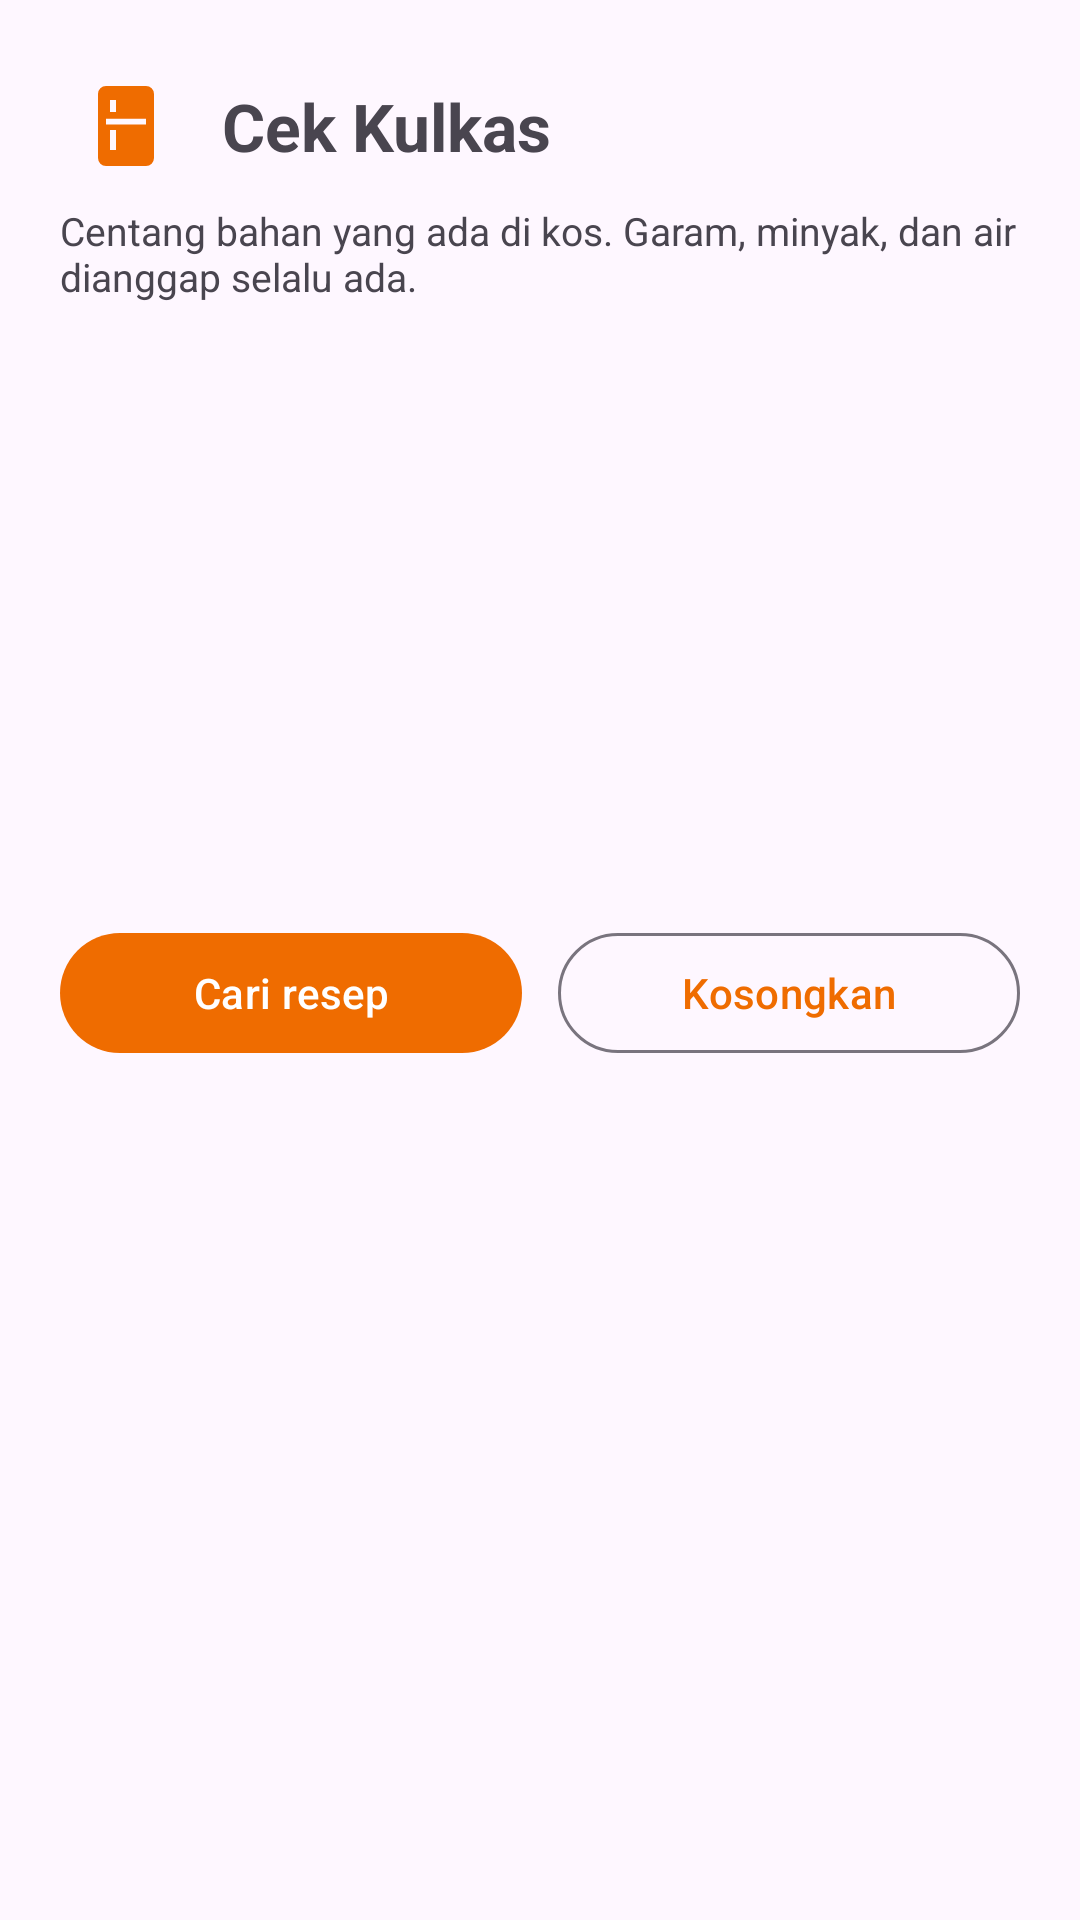

Icons on this 1080px x 1920px Android screen, each with its box as (x1, y1, x2, y2):
Ikon kulkas: (98, 86, 154, 166)
